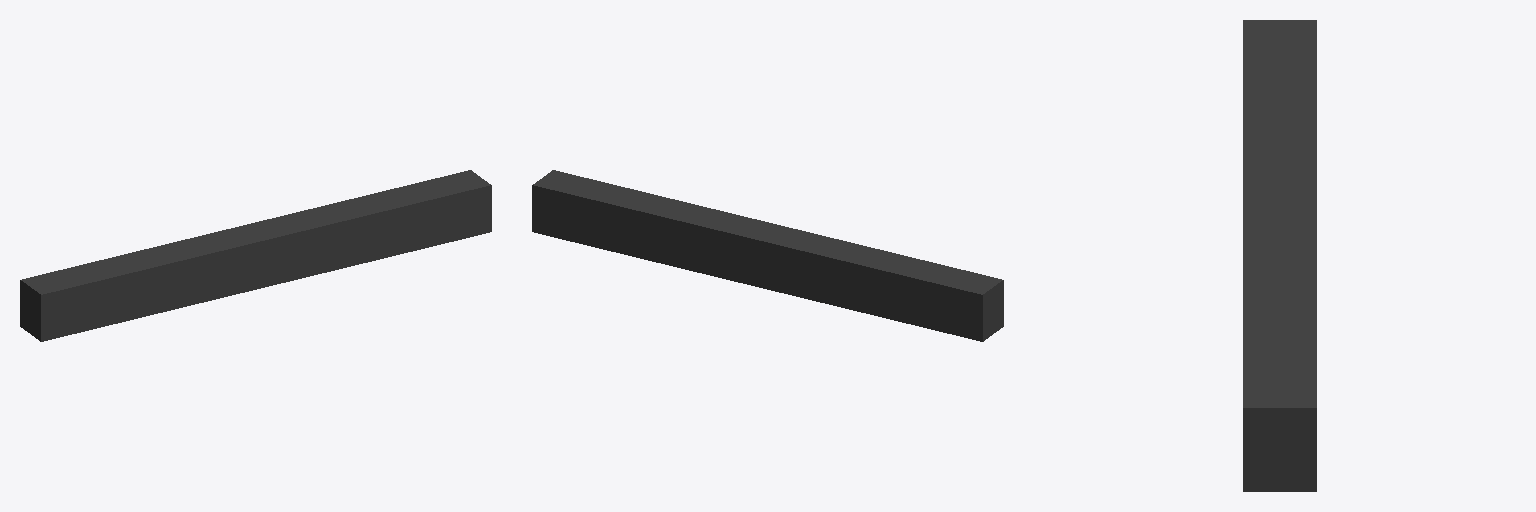
robot.urdf — cube:
<?xml version="1.0" ?>
<robot name="cube">
  <link name="baseLink">
    <contact>
      <friction_anchor/>
      <lateral_friction value="10"/>
      <rolling_friction value="10"/>
    </contact>
    <inertial>
      <origin rpy="0 0 0" xyz="0 0 0"/>
      <mass value="2"/>
      <inertia ixx="1" ixy="0" ixz="0" iyy="1" iyz="0" izz="1"/>
    </inertial>
    <visual>
      <origin rpy="0 0 0" xyz="0 0 0"/>
      <!--<geometry>
	    <mesh filename="cube.obj" scale="0.05 0.05 0.05"/>
      </geometry>-->
      <geometry>
	 	<box size="0.5 0.04 0.05"/>
      </geometry>
      <material name="gray">
        <color rgba="0.3 0.3 0.3 1"/>
      </material>
    </visual>
    <collision>
      <origin rpy="0 0 0" xyz="0 0 0"/>
      <!--<geometry>
        <mesh filename="cube.obj" scale="0.0475 0.0475 0.0475"/>
      </geometry>-->
      <geometry>
	 	<box size="0.5 0.04 0.05"/>
      </geometry>
    </collision>
  </link>
</robot>

--- Render facts (derived) ---
Views: 3 orthographic renders of the robot side by side, from view 1: azimuth 30°, elevation 25°; view 2: azimuth 150°, elevation 25°; view 3: azimuth 270°, elevation 25°.
Model cube with 1 links and 0 joints (none), rooted at baseLink, posed every joint at zero.
Visible links, largest first — view 1: baseLink; view 2: baseLink; view 3: baseLink.
Boxes of the visible links, box(x1,y1,x2,y2) form: baseLink: box(20, 170, 491, 341); baseLink: box(532, 170, 1003, 341); baseLink: box(1243, 20, 1316, 491).
Size in the robot's own frame: 0.5 by 0.04 by 0.05 metres.
Geometry: primitives only (box / cylinder / sphere), no mesh files.